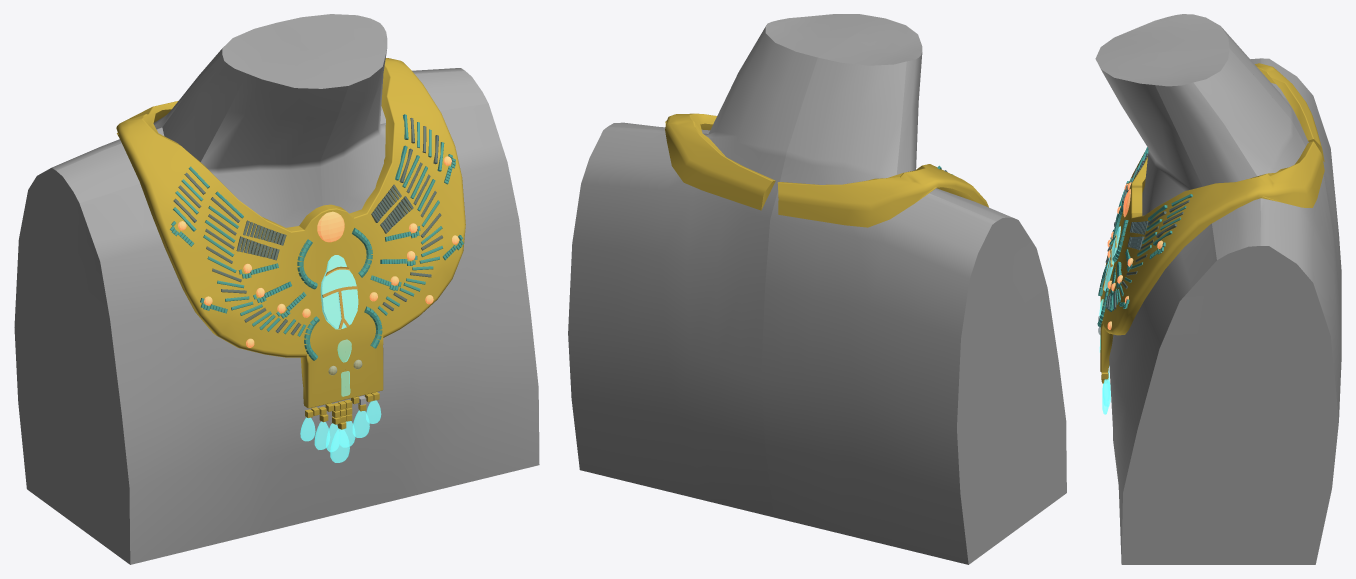
Rendered from treasure.fbx.
The picture shows the model from 3 angles, left to right: view 1: azimuth 30°, elevation 25°; view 2: azimuth 150°, elevation 25°; view 3: azimuth 270°, elevation 25°; orthographic projection. The views are drawn at different scales.
Visible parts, largest first — view 1: bust_right, bust_left, necklace_right, necklace_left, bug, red_sphere_top; view 2: bust_right, bust_left, necklace_right, necklace_left; view 3: bust_left, necklace_left, bust_right, necklace_right, bug.
Part boxes in pixels (bbox=[...]): bust_right: bbox=[14, 22, 348, 564]; bust_left: bbox=[277, 14, 539, 514]; necklace_right: bbox=[116, 101, 345, 408]; necklace_left: bbox=[324, 58, 465, 399]; bug: bbox=[320, 255, 358, 329]; red_sphere_top: bbox=[317, 211, 344, 242]; bust_right: bbox=[761, 18, 1066, 564]; bust_left: bbox=[568, 14, 885, 517]; necklace_right: bbox=[777, 164, 988, 227]; necklace_left: bbox=[665, 113, 775, 210]; bust_left: bbox=[1095, 48, 1341, 564]; necklace_left: bbox=[1100, 141, 1324, 372]; bust_right: bbox=[1095, 14, 1341, 324]; necklace_right: bbox=[1100, 63, 1324, 310]; bug: bbox=[1103, 226, 1120, 291].
Size of the model in its own units: 4.1 by 4.31 by 2.27.
